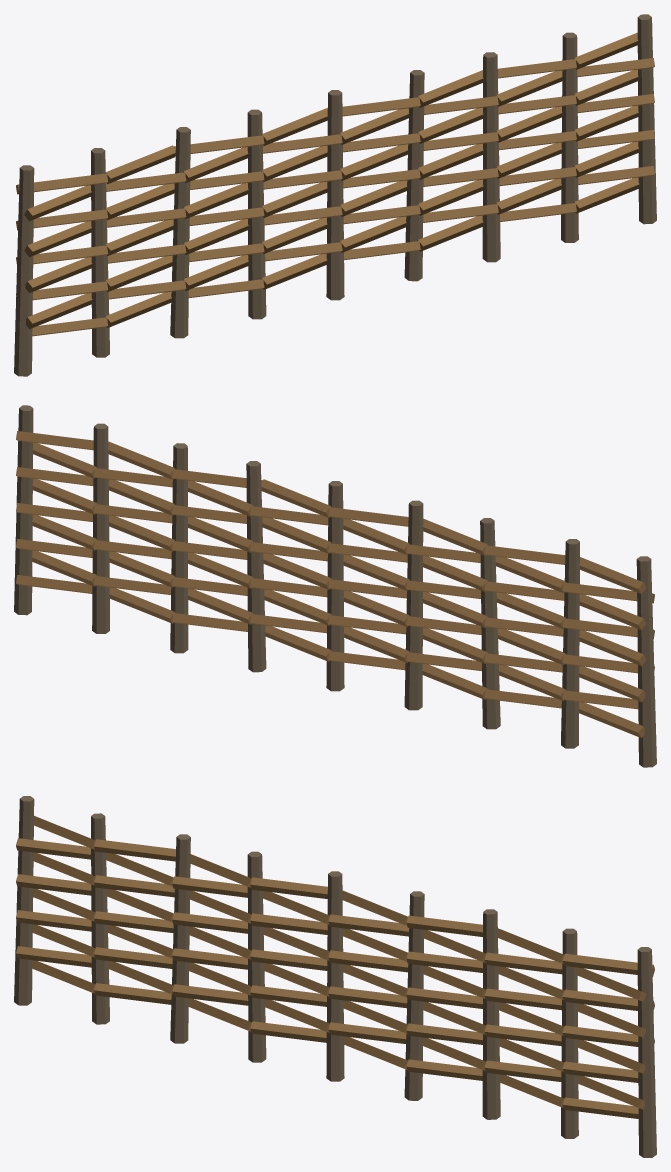
File: UM_Flechtzaun_4m.fbx
3 renders of one model, top to bottom at view 1: azimuth 30°, elevation 25°; view 2: azimuth 150°, elevation 25°; view 3: azimuth 330°, elevation 25°, orthographic.
Visible parts, largest first — view 1: UM_Flechtzaun_4m; view 2: UM_Flechtzaun_4m; view 3: UM_Flechtzaun_4m.
Boxes of the visible parts, box(x1,y1,x2,y2) form: UM_Flechtzaun_4m: box(14, 14, 656, 376); UM_Flechtzaun_4m: box(14, 405, 656, 767); UM_Flechtzaun_4m: box(14, 796, 656, 1157).
Bounding box in the file's own units: 4.09 × 1.25 × 0.1862.
